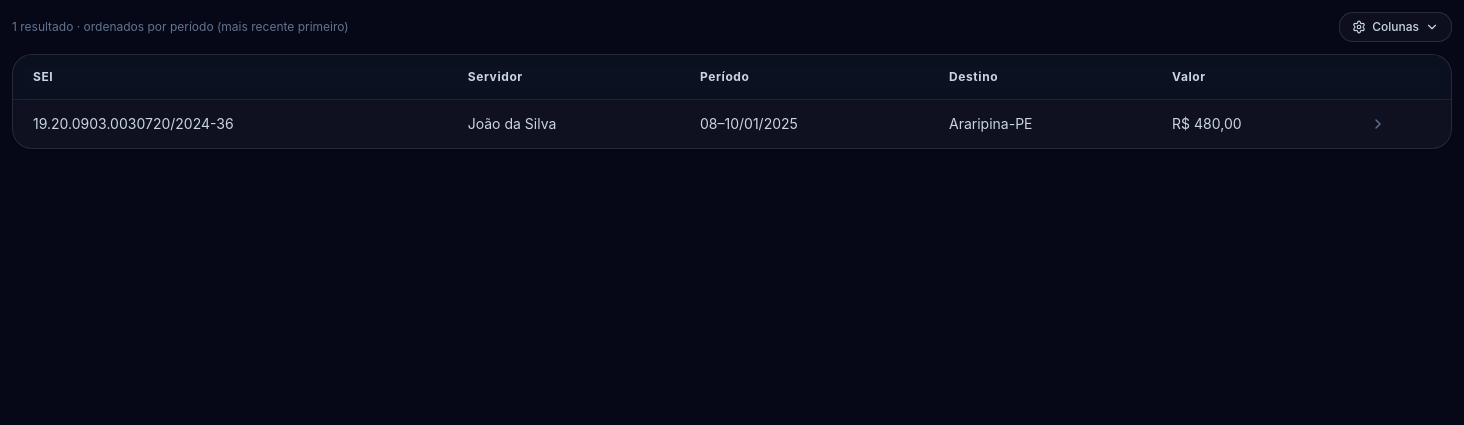
Test: TabelaDiarias › colunas opcionais (Sprint 19.5.7) › ativar 'Matrícula' mostra a coluna com a matrícula do servidor
The image size is (1464, 425).
Click the button "Colunas": (1396, 27) [1339,12,1452,42]
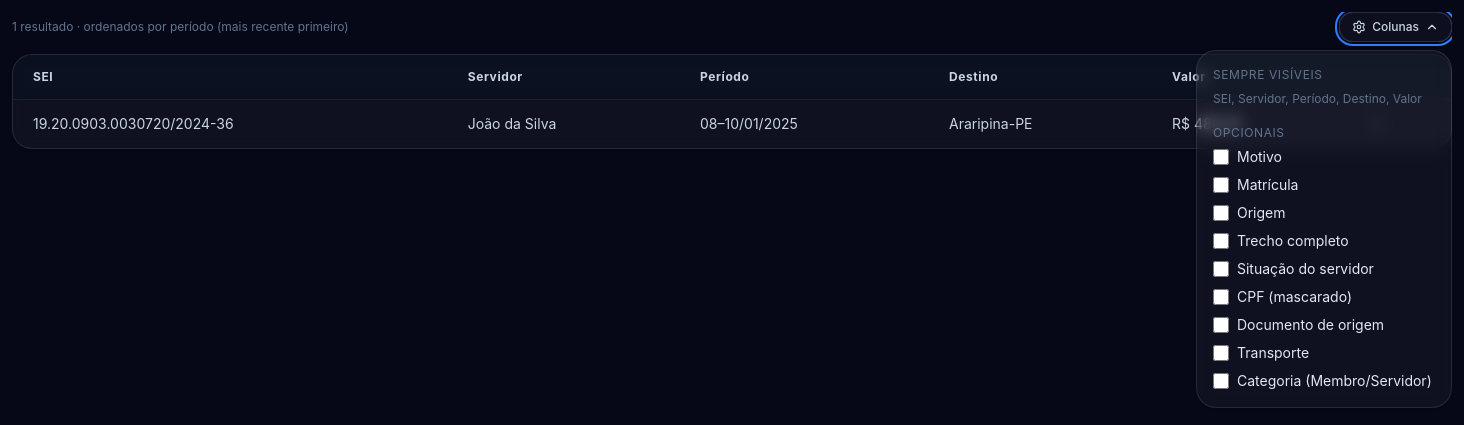
Click the checkbox labelled "Matrícula": (1221, 184) [1213,176,1229,192]
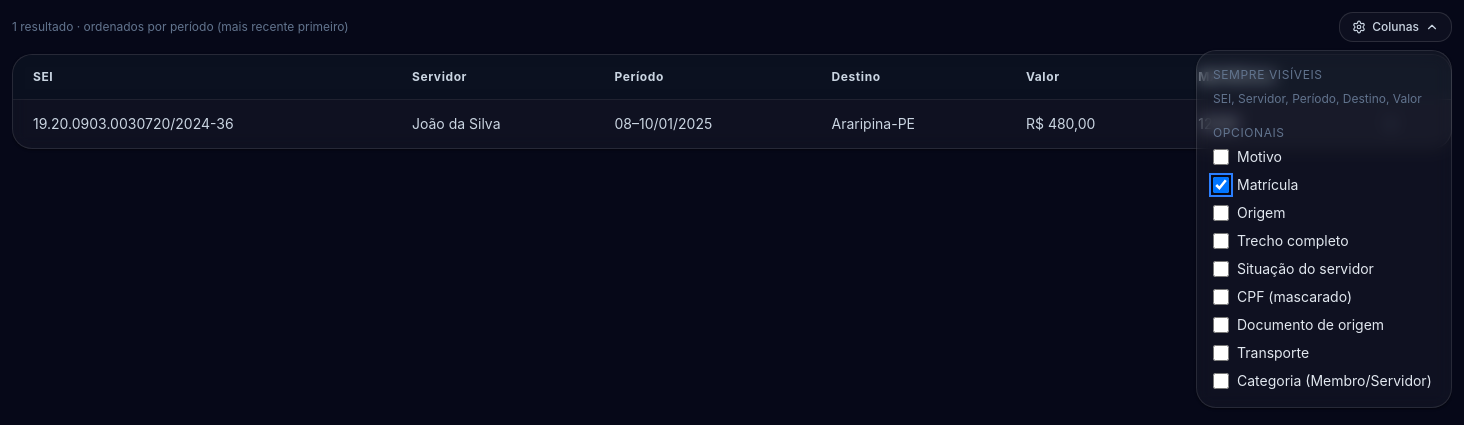
Result: the column heading "Matrícula" is shown at [1178,55,1363,100]
Result: the text "12345" is shown at [1178,100,1363,148]
